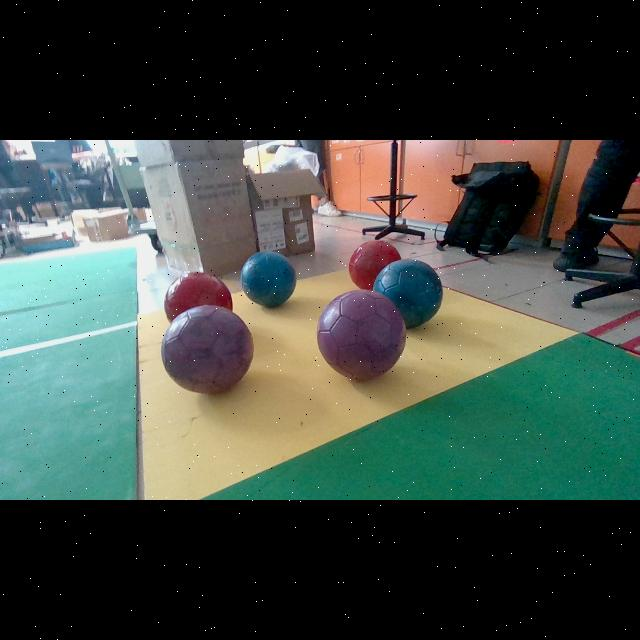B: (374, 260, 443, 328), (240, 252, 297, 308)
P: (161, 305, 253, 393), (317, 290, 406, 380)
R: (165, 274, 233, 322), (349, 240, 401, 290)
